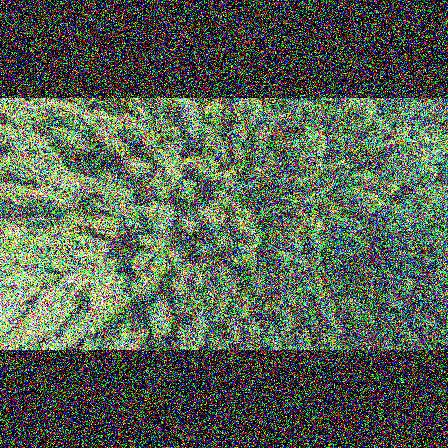Dead: (22, 211, 51, 229)
Sick: (120, 214, 147, 234), (206, 136, 229, 158), (220, 171, 244, 192), (203, 286, 224, 307), (297, 119, 315, 138), (152, 148, 169, 165), (311, 157, 326, 174), (287, 138, 302, 155)
